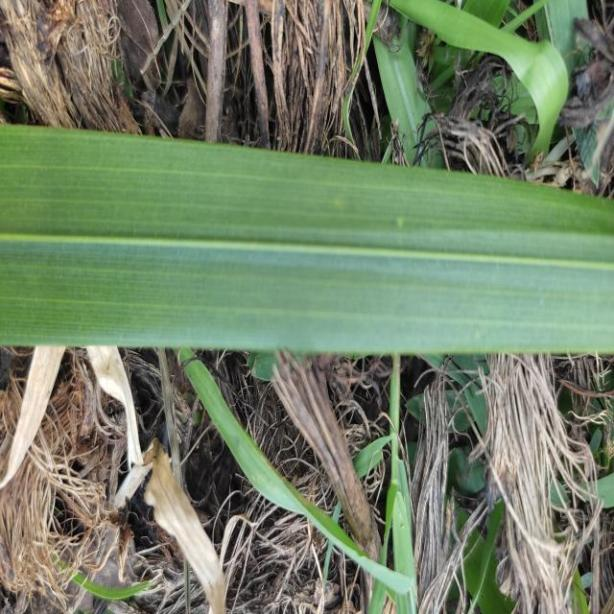Healthy: (0, 123, 614, 358)
